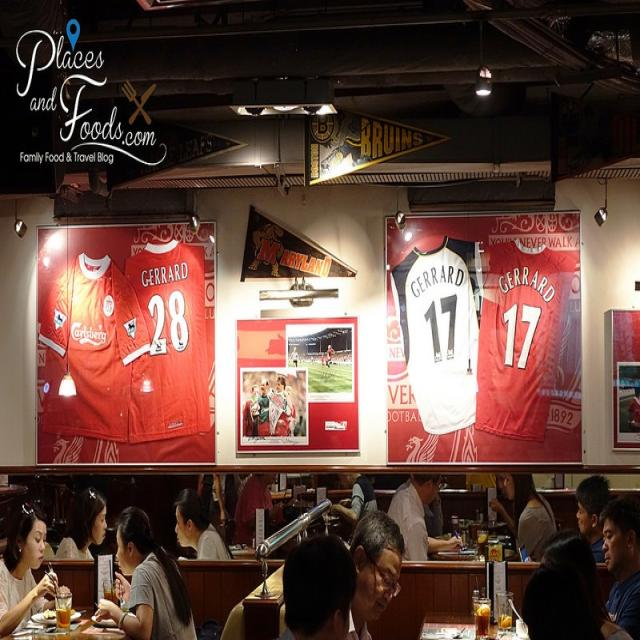body: (88, 498, 201, 638), (525, 537, 622, 638), (270, 532, 356, 640), (0, 497, 64, 639), (346, 507, 406, 640), (386, 472, 464, 562), (386, 474, 464, 562), (487, 471, 559, 563), (237, 368, 310, 451), (601, 496, 640, 637), (287, 326, 351, 401), (174, 488, 236, 562), (54, 483, 108, 563), (232, 470, 286, 549), (574, 471, 618, 566), (329, 471, 378, 525), (197, 471, 236, 517), (621, 363, 640, 433), (494, 471, 514, 524)
